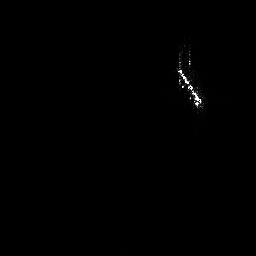ship: (172, 43, 205, 111)
